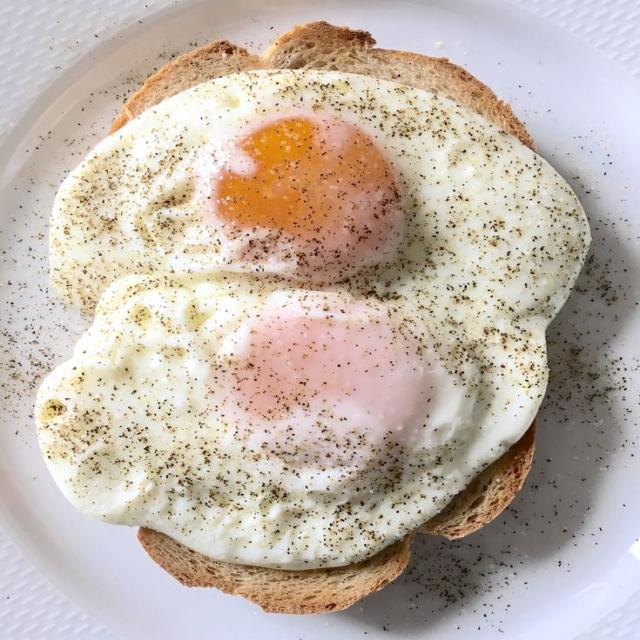fryed egg: (37, 71, 589, 568), (36, 276, 496, 568)
sliced bread: (138, 421, 535, 613), (112, 22, 535, 150)
